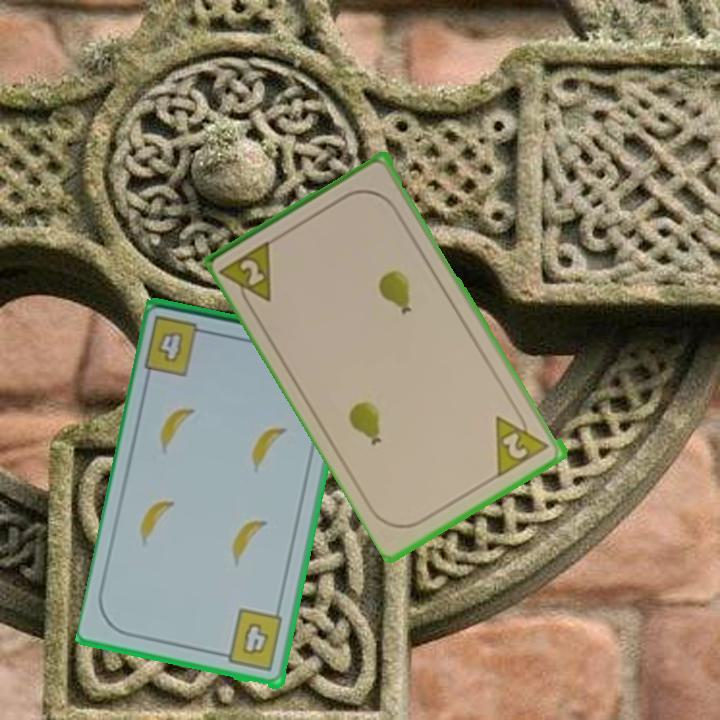2p: (491, 403, 553, 479), (236, 255, 268, 289)
4b: (141, 312, 215, 379), (215, 606, 286, 675)
